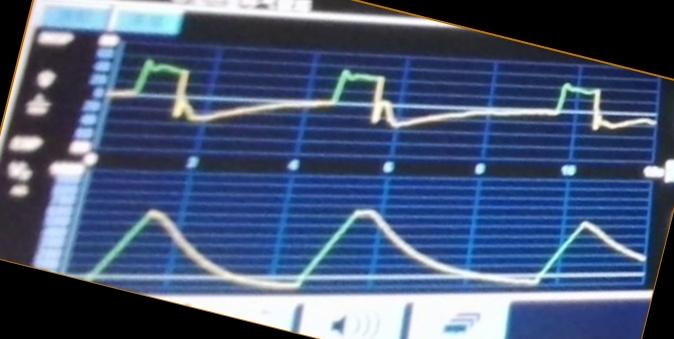Premature_cycling Flow: (119, 59, 655, 158)
Premature_cycling Volume: (78, 202, 643, 290)
